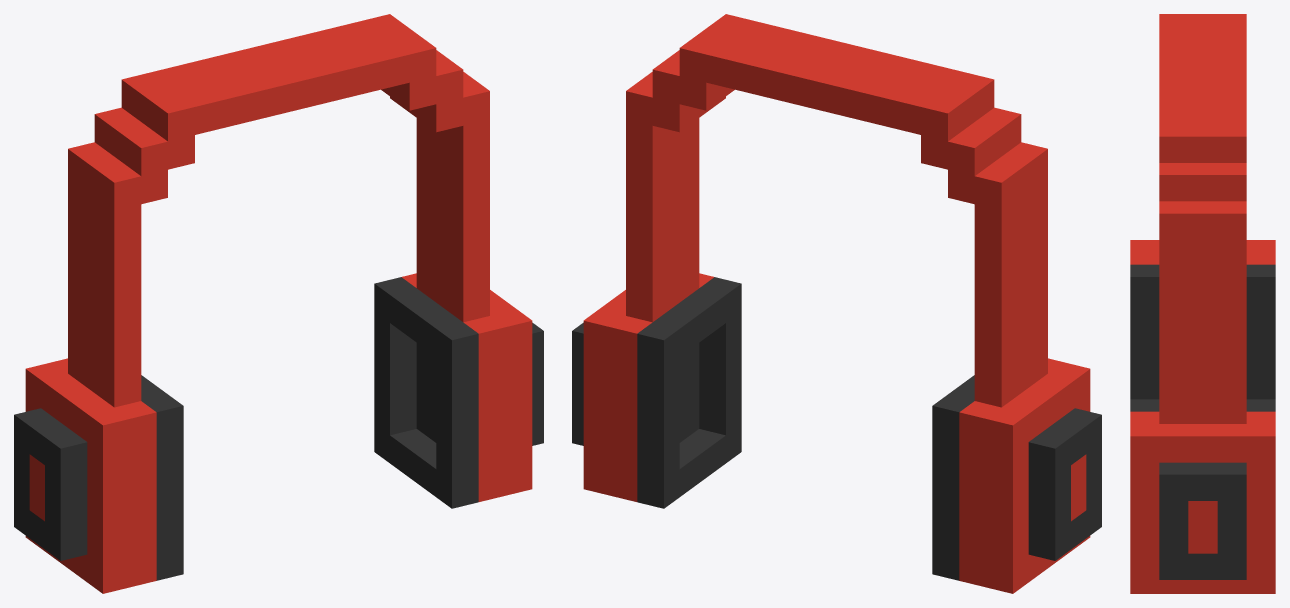
Rendered from headphones.fbx.
3 views of the same model, side by side, from view 1: azimuth 30°, elevation 25°; view 2: azimuth 150°, elevation 25°; view 3: azimuth 270°, elevation 25° (orthographic). The views are drawn at different scales.
Parts seen in each view (by area): view 1: Cube; view 2: Cube; view 3: Cube.
Boxes of the visible parts, x1,y1,x2,y2 form: Cube: (14, 14, 543, 593); Cube: (572, 14, 1101, 593); Cube: (1130, 14, 1275, 593).
Bounding box in the file's own units: 112 × 100 × 31.25.
